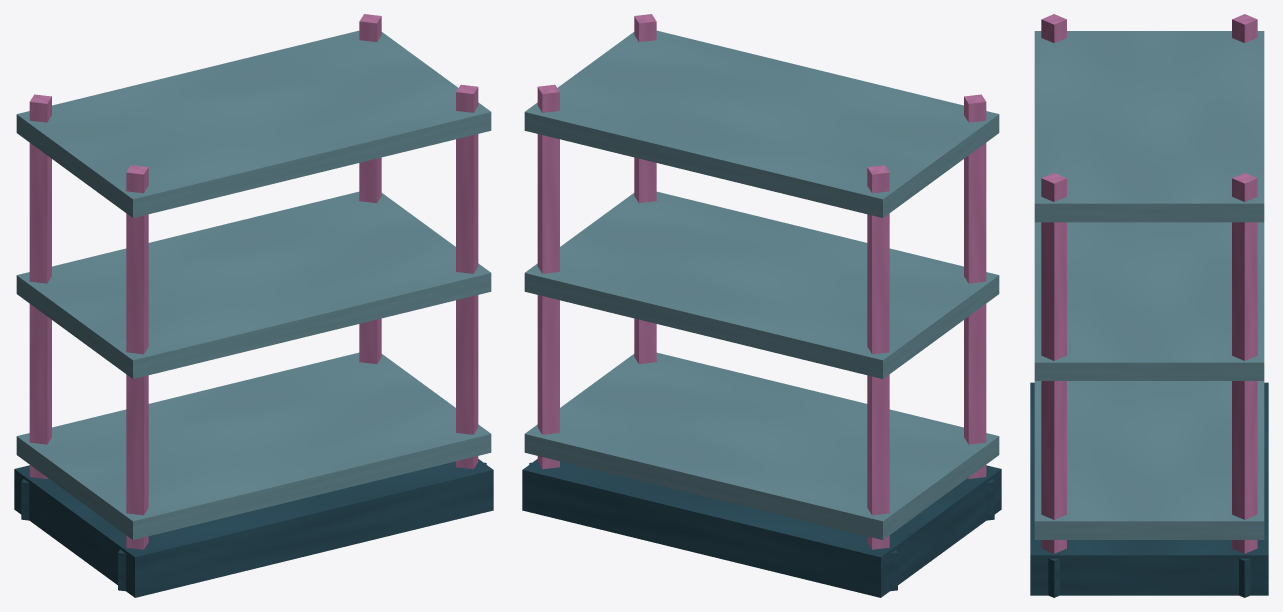
File: atlas100-s067-a06.lod2.glb
3 views of the same model, side by side, from view 1: azimuth 30°, elevation 25°; view 2: azimuth 150°, elevation 25°; view 3: azimuth 270°, elevation 25° (orthographic).
Visible parts, largest first — view 1: atlas100-s067-a06:part-013, atlas100-s067-a06:part-012, atlas100-s067-a06:part-011, atlas100-s067-a06:part-000, atlas100-s067-a06:part-005, atlas100-s067-a06:part-009, atlas100-s067-a06:part-003, atlas100-s067-a06:part-007; view 2: atlas100-s067-a06:part-013, atlas100-s067-a06:part-012, atlas100-s067-a06:part-011, atlas100-s067-a06:part-000, atlas100-s067-a06:part-003, atlas100-s067-a06:part-007, atlas100-s067-a06:part-005, atlas100-s067-a06:part-009; view 3: atlas100-s067-a06:part-013, atlas100-s067-a06:part-011, atlas100-s067-a06:part-012, atlas100-s067-a06:part-000, atlas100-s067-a06:part-007, atlas100-s067-a06:part-009, atlas100-s067-a06:part-003, atlas100-s067-a06:part-005, atlas100-s067-a06:part-008, atlas100-s067-a06:part-010.
Boxes of the visible parts, x1,y1,x2,y2 form: atlas100-s067-a06:part-013: (16,30,491,217); atlas100-s067-a06:part-012: (16,191,491,378); atlas100-s067-a06:part-011: (16,352,491,539); atlas100-s067-a06:part-000: (14,459,493,597); atlas100-s067-a06:part-005: (126,165,148,549); atlas100-s067-a06:part-009: (456,84,478,469); atlas100-s067-a06:part-003: (29,94,51,478); atlas100-s067-a06:part-007: (359,14,381,363); atlas100-s067-a06:part-013: (524,30,999,217); atlas100-s067-a06:part-012: (524,191,999,378); atlas100-s067-a06:part-011: (524,352,999,539); atlas100-s067-a06:part-000: (522,459,1001,597); atlas100-s067-a06:part-003: (867,165,889,549); atlas100-s067-a06:part-007: (537,84,559,469); atlas100-s067-a06:part-005: (964,94,986,478); atlas100-s067-a06:part-009: (634,14,656,363); atlas100-s067-a06:part-013: (1034,31,1264,222); atlas100-s067-a06:part-011: (1034,381,1264,539); atlas100-s067-a06:part-012: (1034,222,1264,380); atlas100-s067-a06:part-000: (1030,382,1268,595); atlas100-s067-a06:part-007: (1232,173,1257,553); atlas100-s067-a06:part-009: (1041,173,1066,553); atlas100-s067-a06:part-003: (1232,14,1257,42); atlas100-s067-a06:part-005: (1041,14,1066,42); atlas100-s067-a06:part-008: (1239,558,1250,597); atlas100-s067-a06:part-010: (1048,558,1059,597).
Bounding box in the file's own units: 2.47 × 2.66 × 1.4.
Materials: 3 (3 with a texture image).
